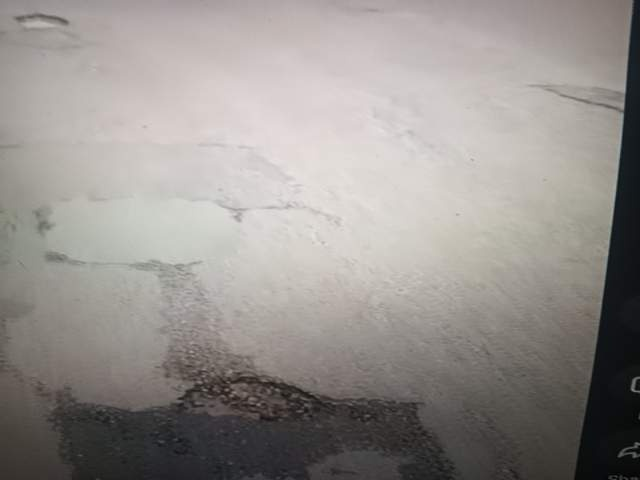pothole: (123, 403, 357, 480)
